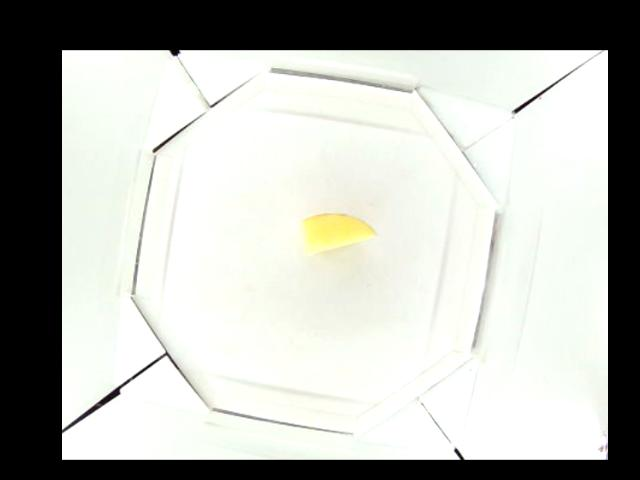Potato: (300, 214, 372, 256)
